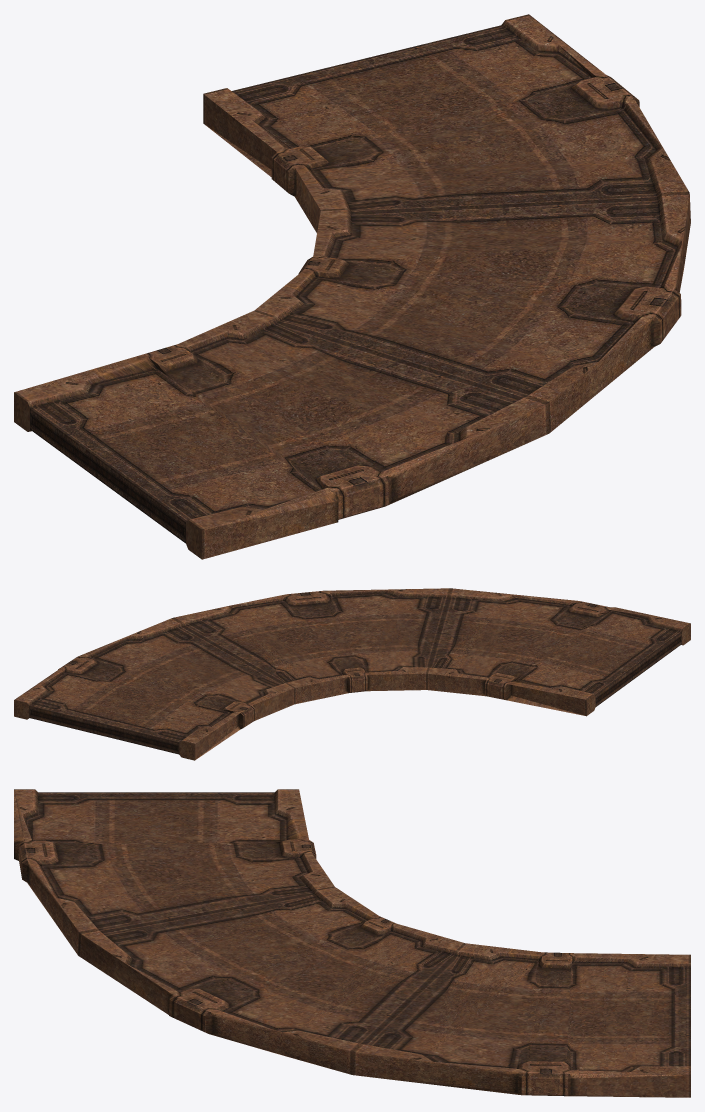
File: catwalk_rusty_turn_sharp.dae
The picture shows the model from 3 angles, top to bottom: view 1: azimuth 30°, elevation 25°; view 2: azimuth 150°, elevation 25°; view 3: azimuth 270°, elevation 25°; orthographic projection. The views are drawn at different scales.
Visible parts, largest first — view 1: turn_sharp; view 2: turn_sharp; view 3: turn_sharp.
Part boxes in pixels (x1,y1,x2,y2): turn_sharp: (14,14,690,559); turn_sharp: (14,588,690,760); turn_sharp: (14,789,690,1097).
Size of the model in its own units: 4.76 by 0.1745 by 4.75.
